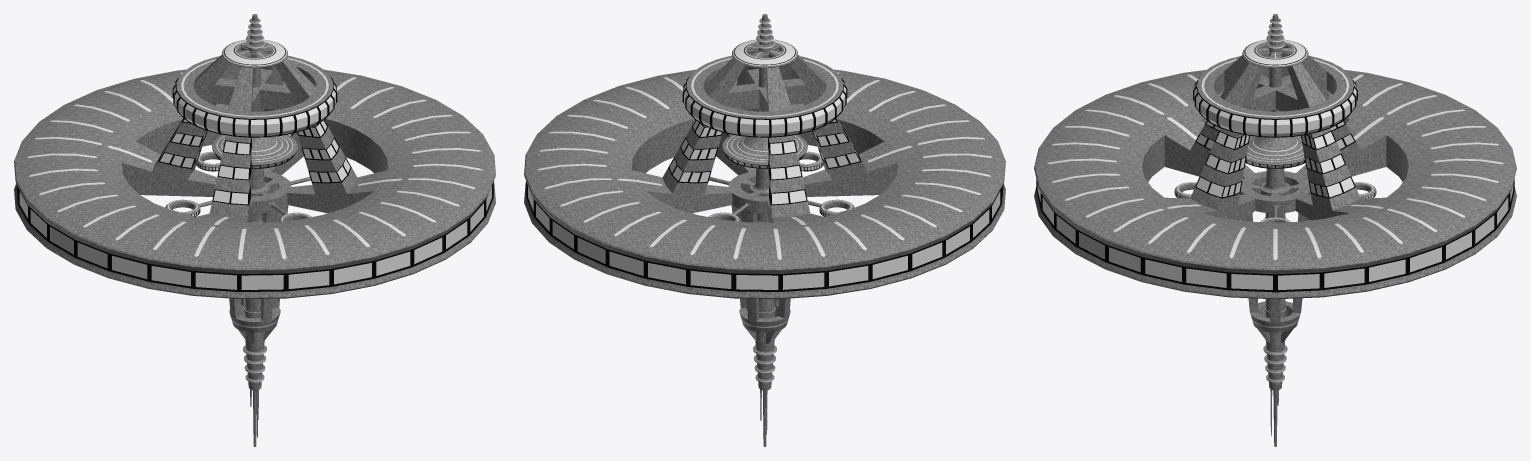
3 renders of one model, left to right at view 1: azimuth 30°, elevation 25°; view 2: azimuth 150°, elevation 25°; view 3: azimuth 270°, elevation 25°, orthographic.
Visible parts, largest first — view 1: Cylinder.006; view 2: Cylinder.006; view 3: Cylinder.006.
Boxes of the visible parts, x1=… form: Cylinder.006: x1=14, y1=14, x2=495, y2=446; Cylinder.006: x1=524, y1=14, x2=1005, y2=446; Cylinder.006: x1=1034, y1=14, x2=1516, y2=446.
Size of the model in its own units: 18.02 by 17.77 by 18.02.
Materials: 3 (1 with a texture image).
